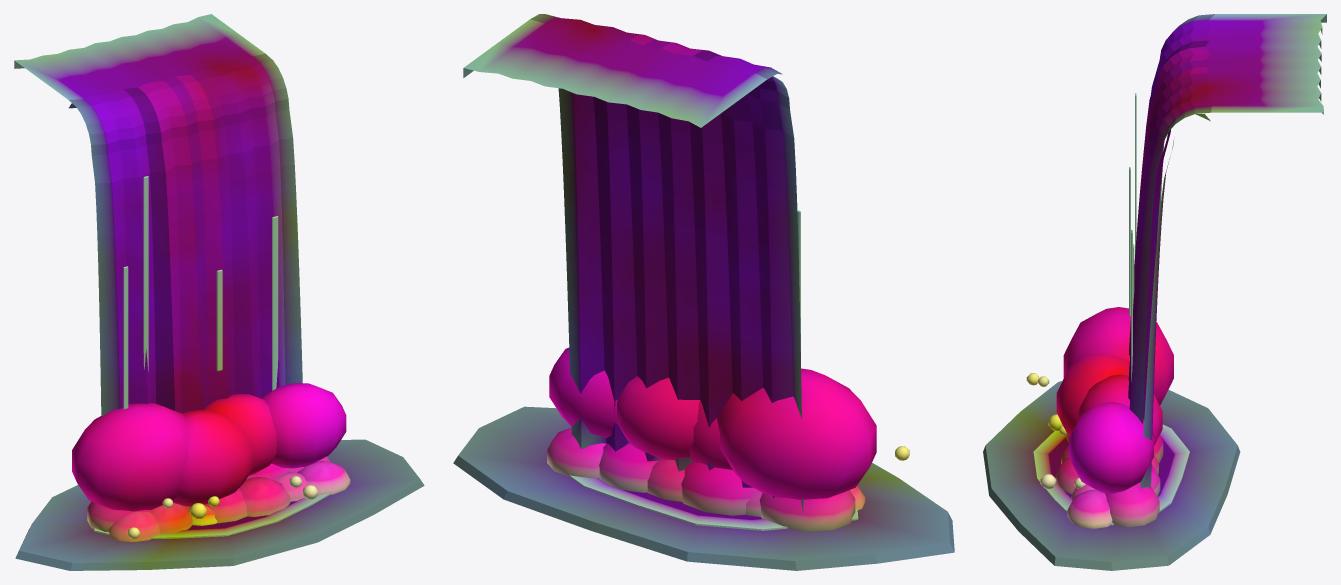
The model's file is Waterfall_Large.glb.
3 views of the same model, side by side, from view 1: azimuth 30°, elevation 25°; view 2: azimuth 150°, elevation 25°; view 3: azimuth 270°, elevation 25° (orthographic). The views are drawn at different scales.
Visible parts, largest first — view 1: Waterfall_Large; view 2: Waterfall_Large; view 3: Waterfall_Large.
Boxes of the visible parts, x1=… form: Waterfall_Large: x1=14, y1=14, x2=424, y2=570; Waterfall_Large: x1=453, y1=14, x2=954, y2=570; Waterfall_Large: x1=983, y1=14, x2=1326, y2=570.
Bounding box in the file's own units: 4.81 × 4.66 × 3.53.
